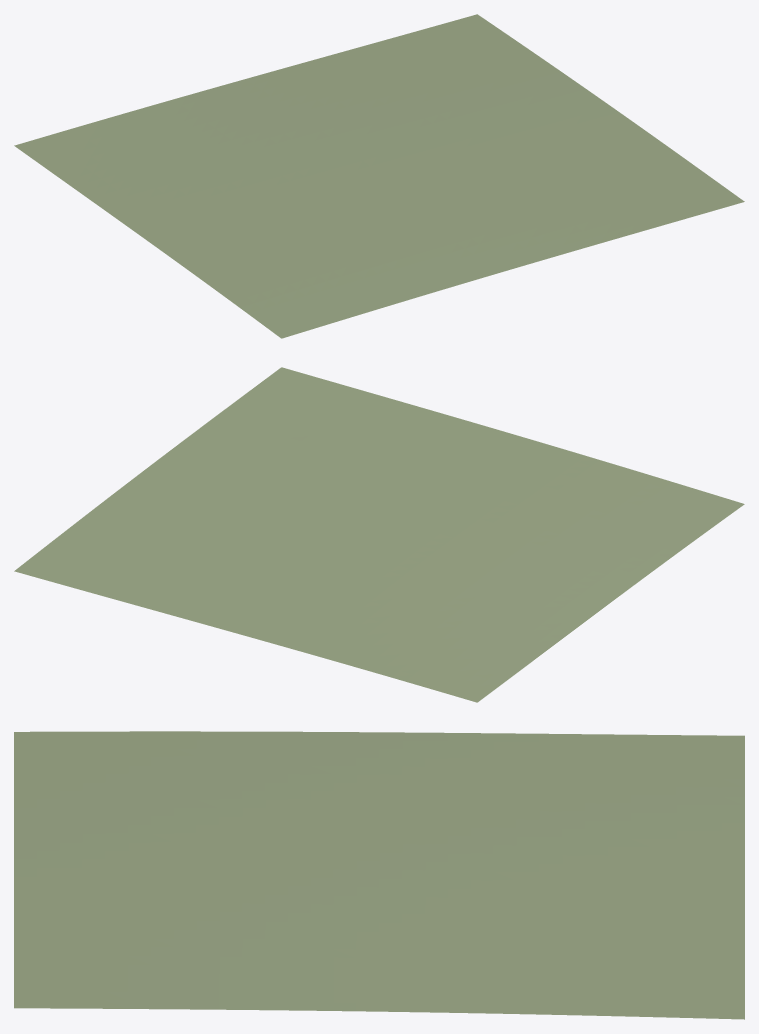
Rendered from expanse-10-4.glb.
3 views of the same model, one above another, from view 1: azimuth 30°, elevation 25°; view 2: azimuth 150°, elevation 25°; view 3: azimuth 270°, elevation 25° (orthographic). The views are drawn at different scales.
Visible parts, largest first — view 1: expanse-10-4; view 2: expanse-10-4; view 3: expanse-10-4.
Boxes of the visible parts, x1=… form: expanse-10-4: x1=14, y1=14, x2=744, y2=338; expanse-10-4: x1=14, y1=367, x2=744, y2=702; expanse-10-4: x1=14, y1=731, x2=744, y2=1019.
Size of the model in its own units: 256 by 14.07 by 256.
